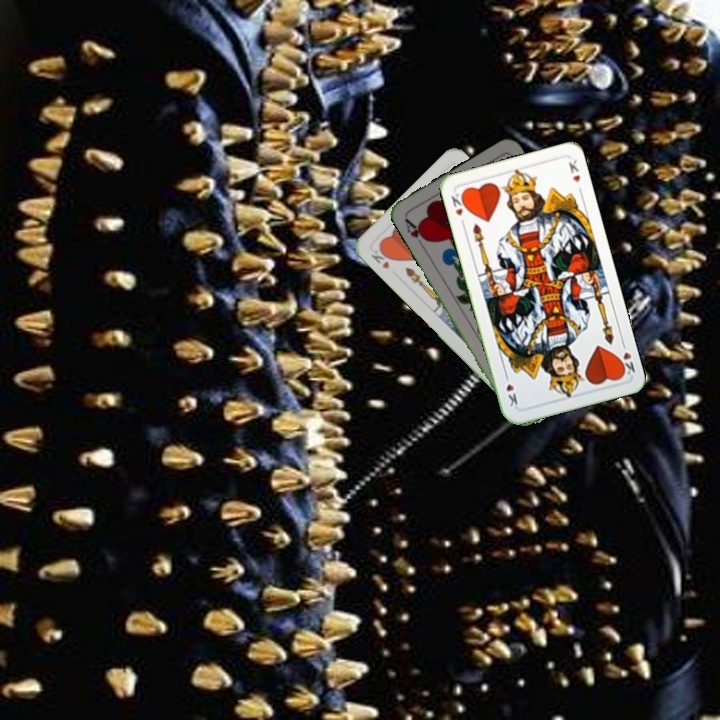HA: (400, 214, 431, 250)
HK: (614, 337, 638, 379), (367, 244, 394, 272), (447, 189, 469, 219)
